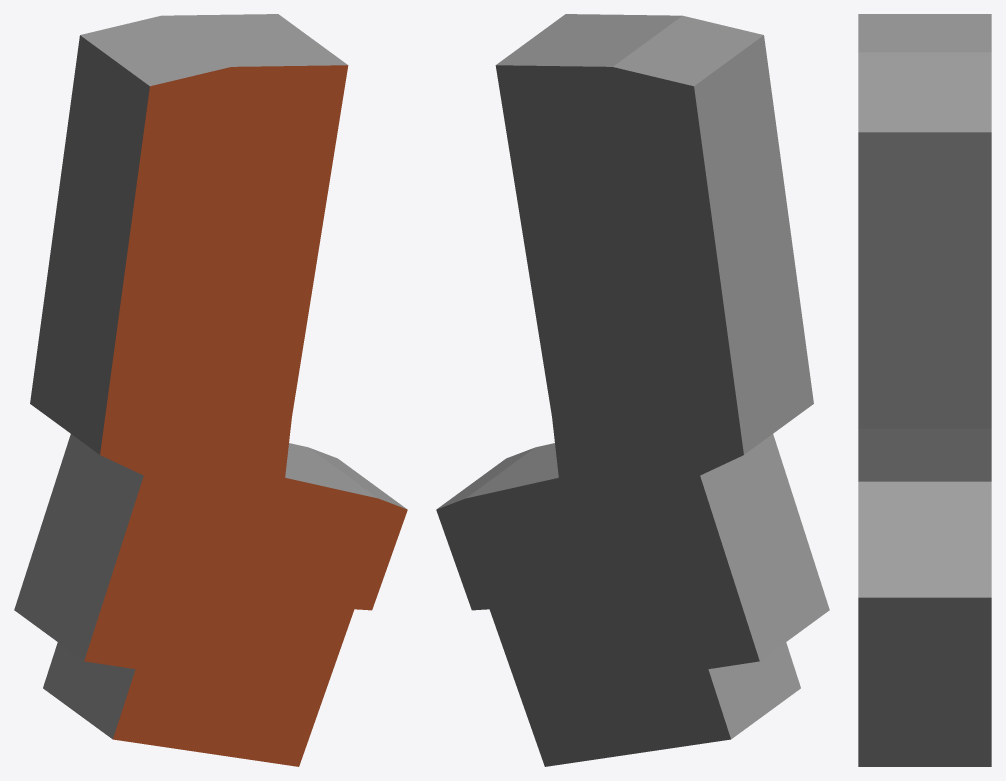
File: construction_6563_assumed_A_Casa_h6m.obj
3 views of the same model, side by side, from view 1: azimuth 30°, elevation 25°; view 2: azimuth 150°, elevation 25°; view 3: azimuth 270°, elevation 25° (orthographic). The views are drawn at different scales.
Parts seen in each view (by area): view 1: construction_6563_assumed_A_Casa; view 2: construction_6563_assumed_A_Casa; view 3: construction_6563_assumed_A_Casa.
Part boxes in pixels (x1,y1,x2,y2): construction_6563_assumed_A_Casa: (14, 14, 407, 766); construction_6563_assumed_A_Casa: (436, 14, 829, 766); construction_6563_assumed_A_Casa: (858, 14, 991, 766).
Size of the model in its own units: 16.02 by 33.9 by 6.
